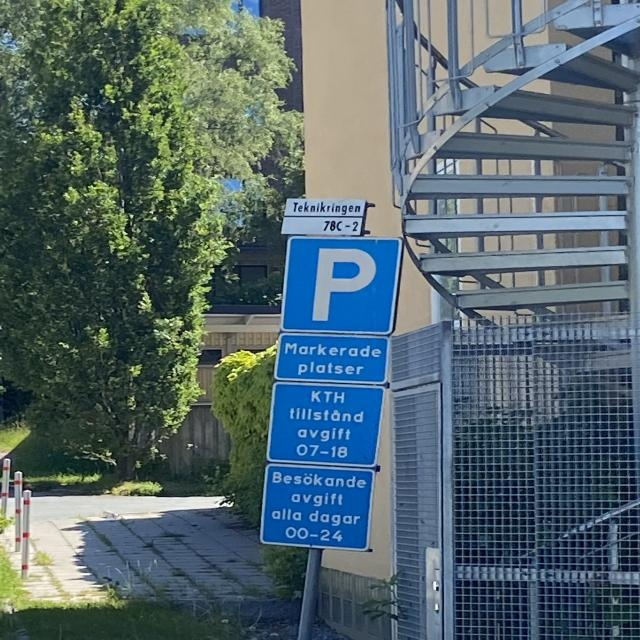P-skylt: (276, 236, 407, 334)
